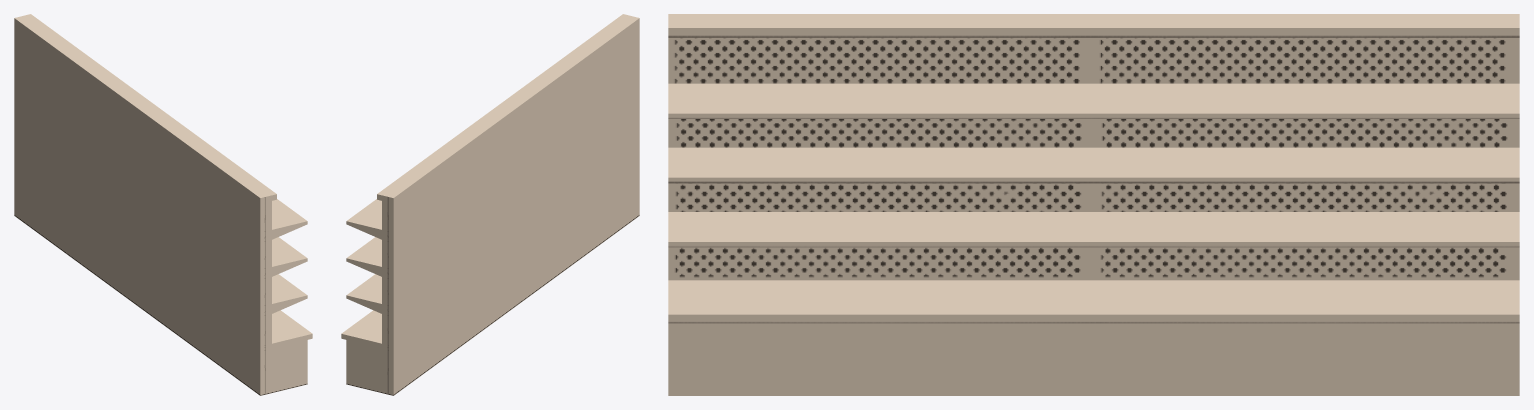
The model's file is S.2StoreShelf.fbx.
3 views of the same model, side by side, from view 1: azimuth 30°, elevation 25°; view 2: azimuth 150°, elevation 25°; view 3: azimuth 270°, elevation 25° (orthographic). The views are drawn at different scales.
Visible parts, largest first — view 1: Plane.001; view 2: Plane.001; view 3: Plane.001.
Part boxes in pixels (x1,y1,x2,y2): Plane.001: (14,14,312,395); Plane.001: (341,14,639,395); Plane.001: (668,14,1519,395).
Size of the model in its own units: 166 by 600 by 1353.
